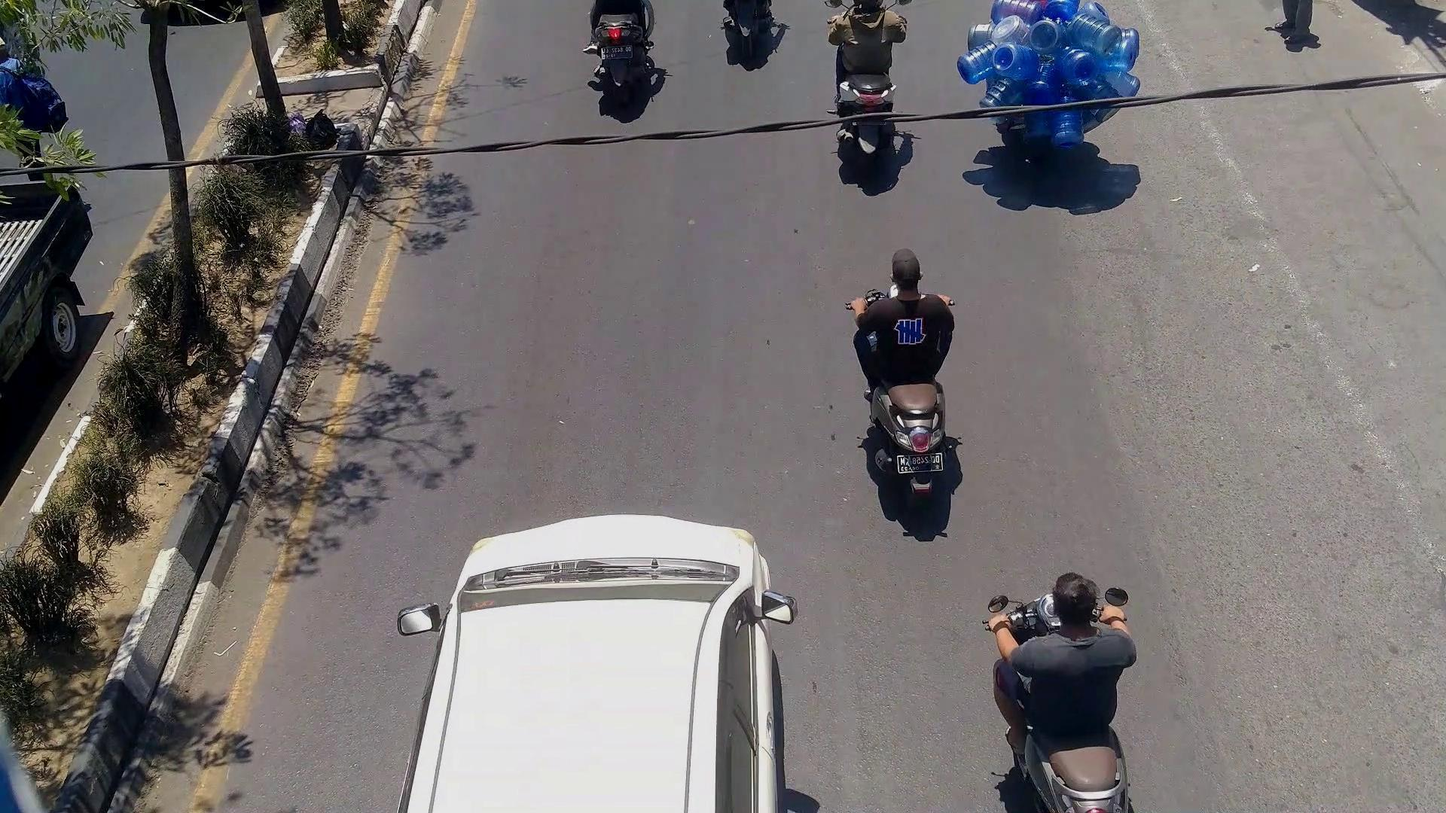bike: (985, 578, 1133, 813), (846, 280, 961, 505), (821, 0, 917, 159), (582, 0, 656, 97)
no-helmet: (1042, 562, 1109, 635), (879, 240, 936, 297)
rider: (990, 563, 1141, 744), (845, 243, 961, 395), (828, 0, 911, 72)
